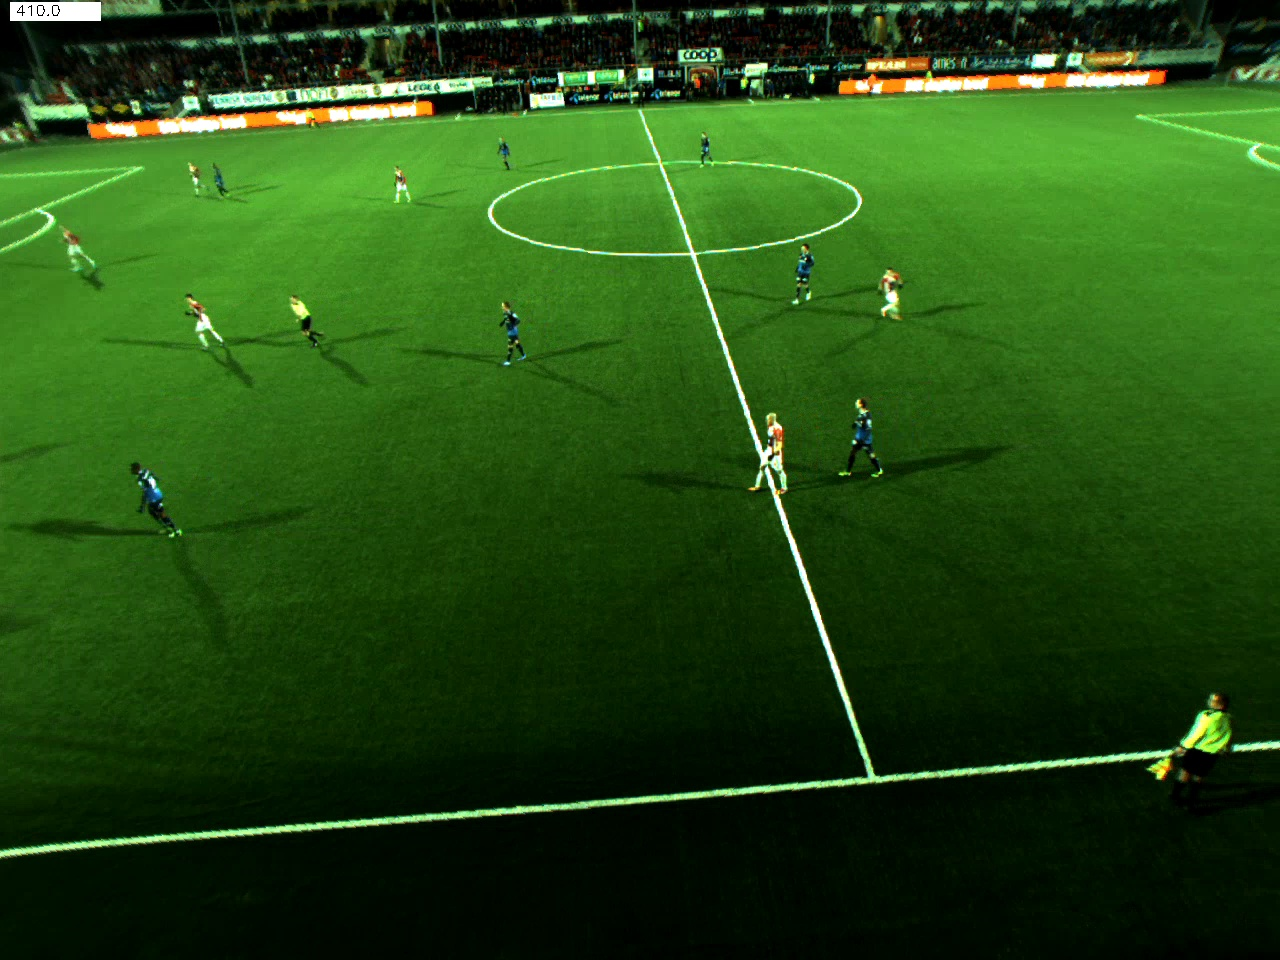blue: (119, 456, 188, 541), (841, 396, 895, 481), (495, 288, 539, 362), (787, 237, 823, 312), (692, 127, 720, 173), (212, 157, 235, 206), (495, 137, 514, 173)
red: (734, 399, 795, 502), (181, 288, 235, 359), (874, 260, 909, 337), (63, 225, 110, 271), (387, 166, 424, 213), (178, 160, 219, 198)
yellow: (1153, 682, 1244, 824), (281, 285, 330, 352)
